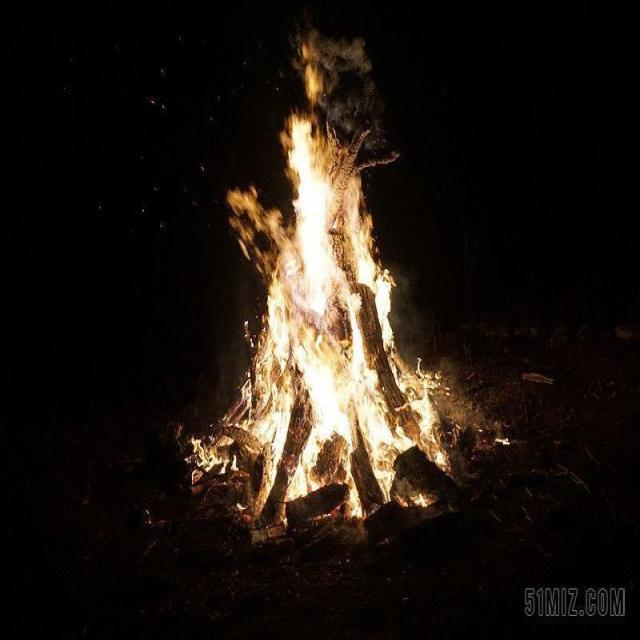Fire: (182, 29, 512, 532)
Smoke: (390, 264, 486, 430)
